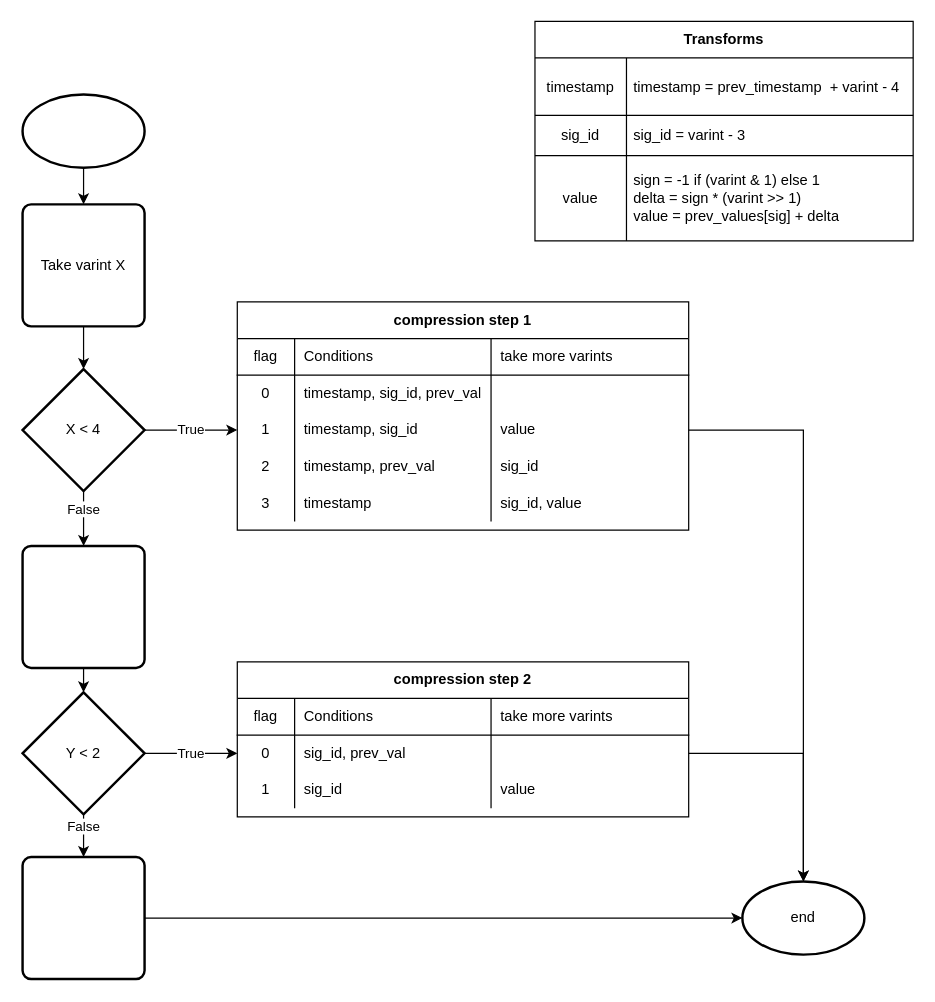
Some shapes in this 935 by 1002 pixel diagram are drawn without their labels. The box of each missing label's shape, as (x1, y1, x2, y2) in pixels:
start: (21, 93, 145, 168)
X → timestamp Take varint Y: (21, 544, 145, 669)
Y → sig_id Take varint Z Z → value: (21, 855, 145, 980)
